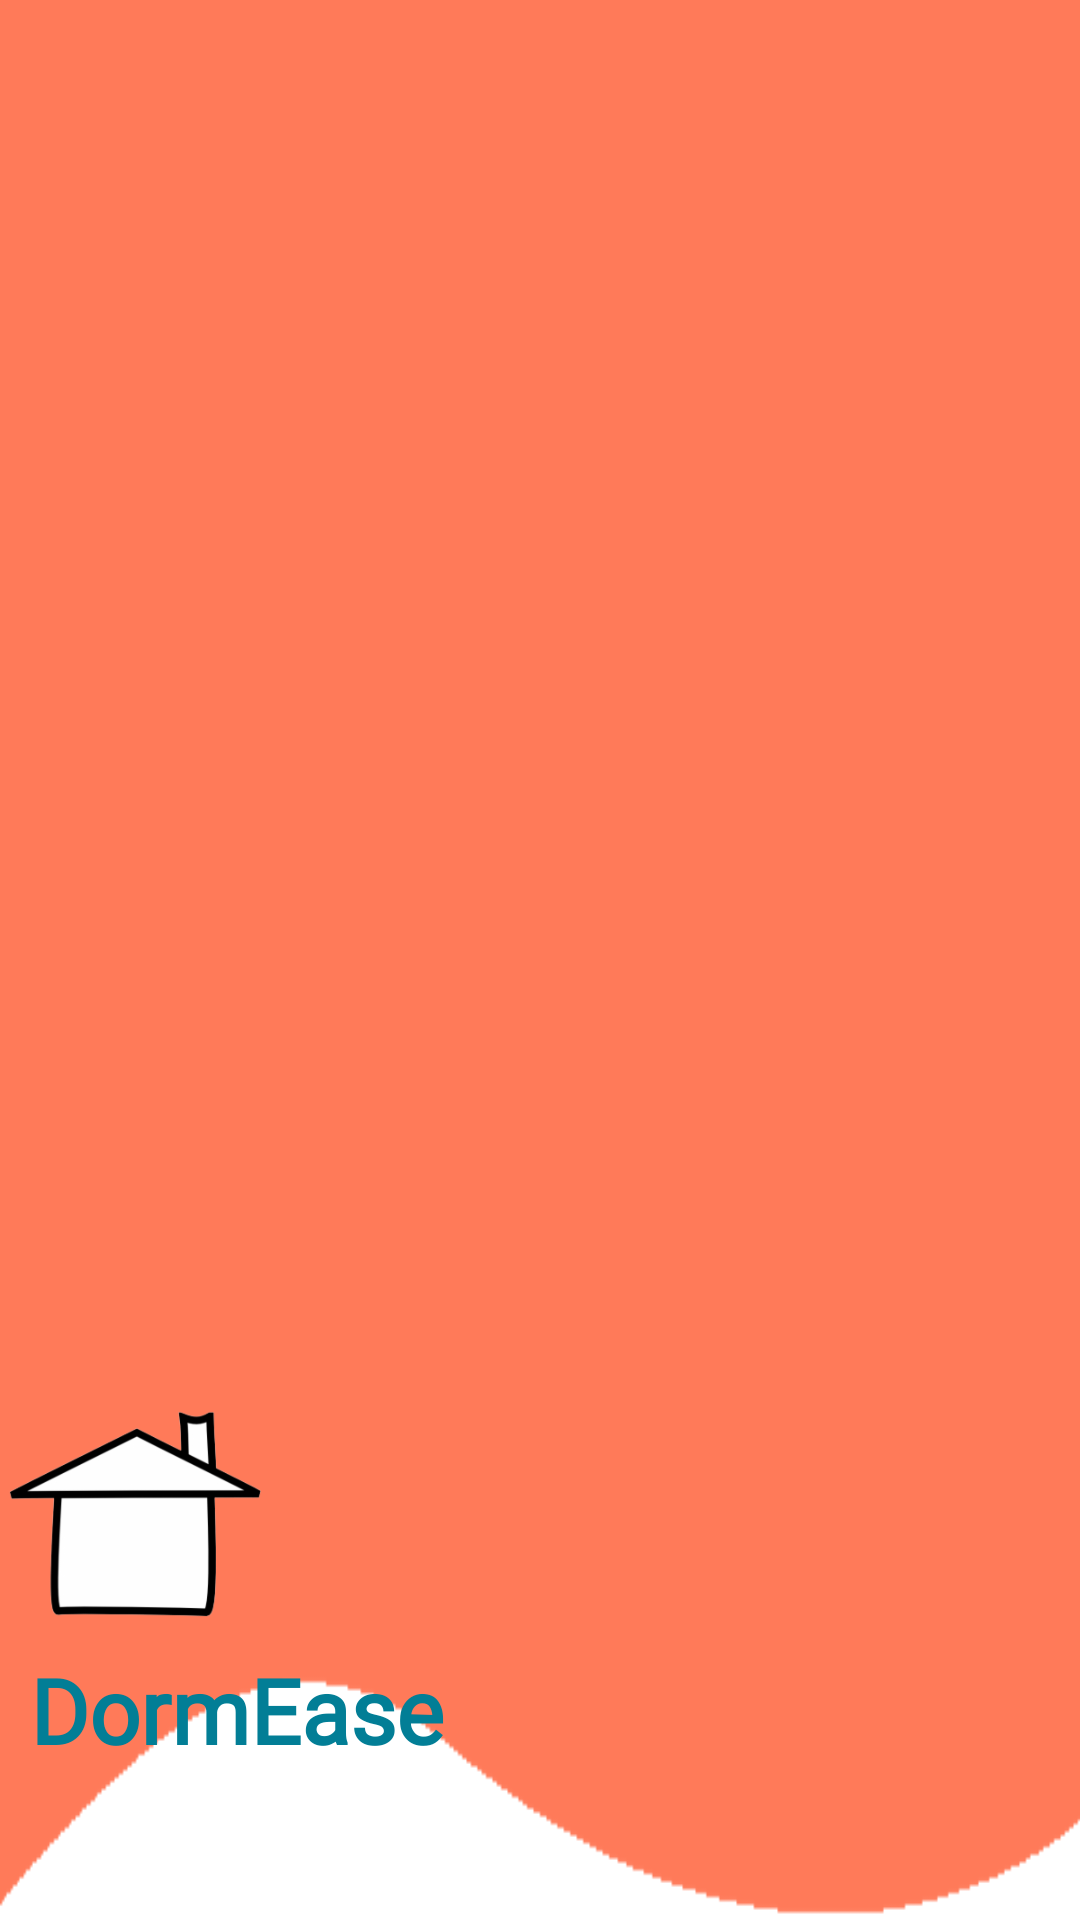

Where icons sit on this 1080*1920 app screen, as [x1, y1, x2, y2]:
onlyhouse: [10, 1412, 261, 1617]
